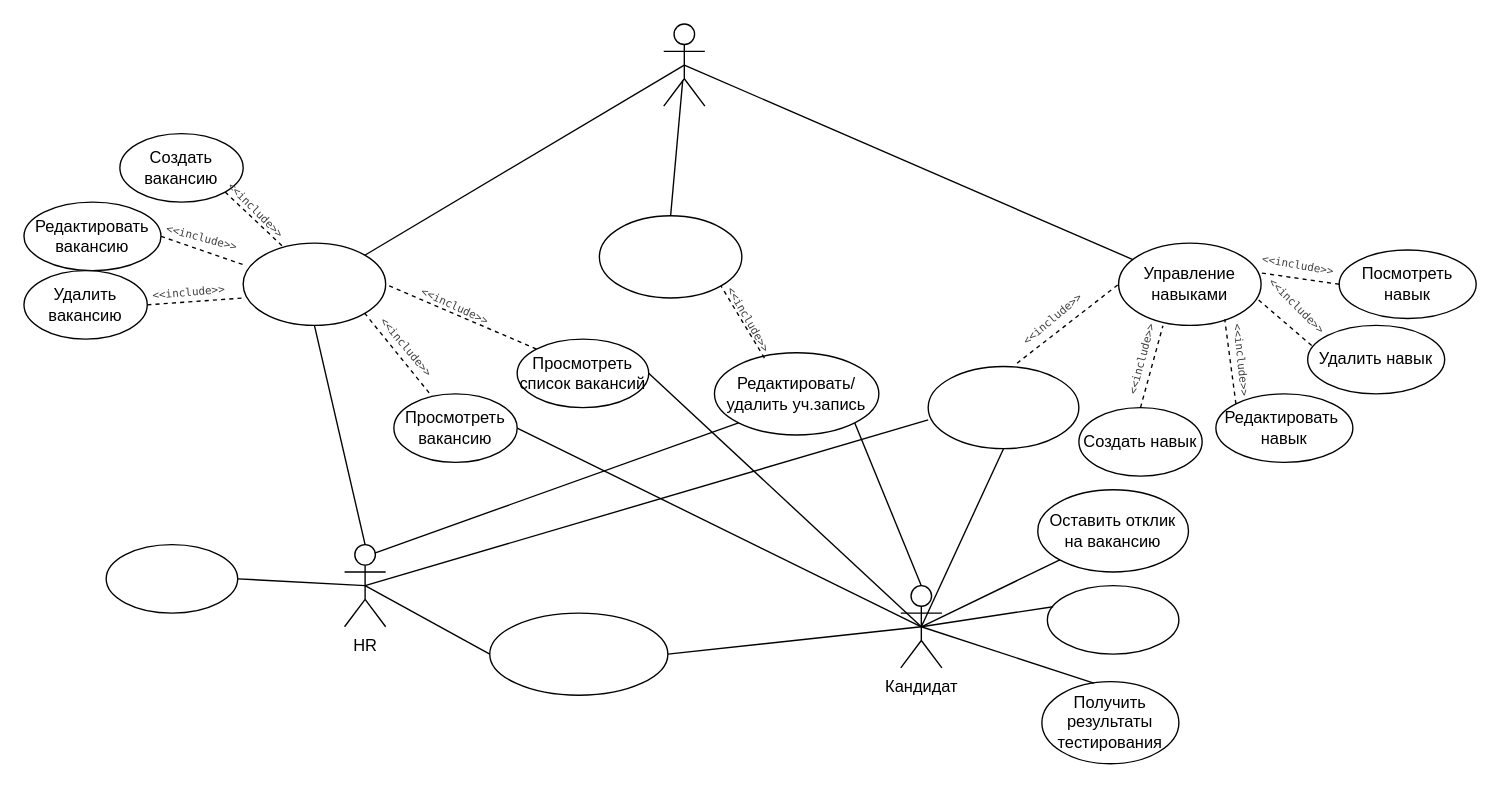
This 1500x788 diagram has some shape labels left out. The shapes that lost their labels are listed below. From the top down, each one's centre as x and y in pixels, then its label:
At (683,64): "Администратор".
At (670,256): "Управление учетными записями".
At (314,283): "Управление вакансиями".
At (1003,407): "Получить список навыков".
At (171,578): "Получить отчёт".
At (1112,619): "Пройти тестирование".
At (578,653): "Войти/ зарегистрироваться".
